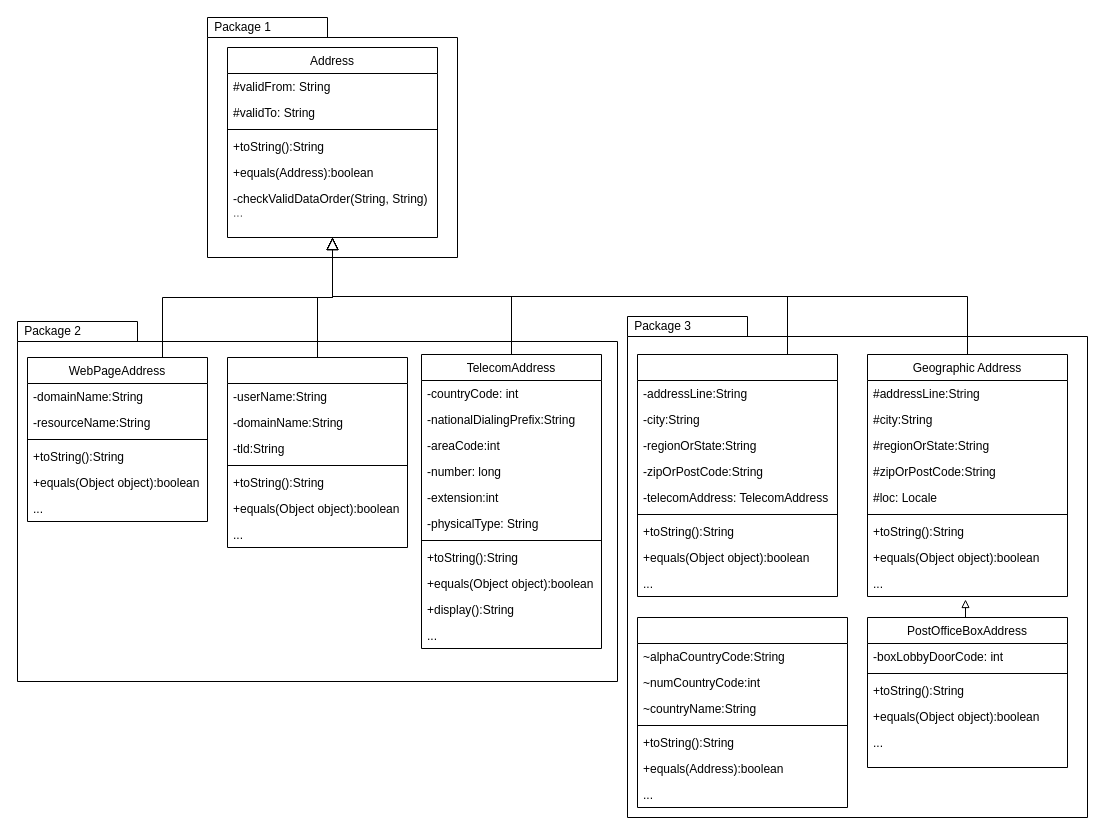
Some shapes in this 1105 by 835 pixel diagram are drawn without their labels. The box of each missing label's shape, as (x1, y1, x2, y2) in pixels:
EmailAddress: (226, 356, 408, 548)
GeneralDeliveryAddress: (636, 354, 838, 596)
Locale: (636, 616, 848, 808)
